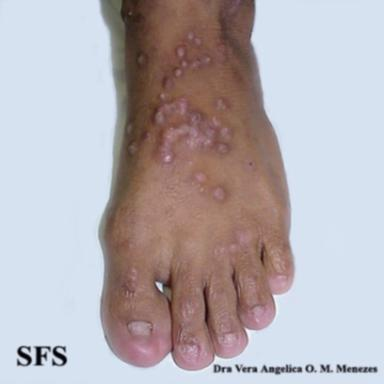Epidermolysis-Bullosa-Pruriginosa: (152, 91, 233, 162), (163, 43, 210, 89), (215, 229, 249, 256), (128, 321, 152, 336), (185, 31, 202, 45), (213, 187, 226, 201), (194, 172, 207, 184), (215, 98, 227, 110), (128, 142, 137, 155), (137, 54, 147, 65), (126, 124, 132, 133)
